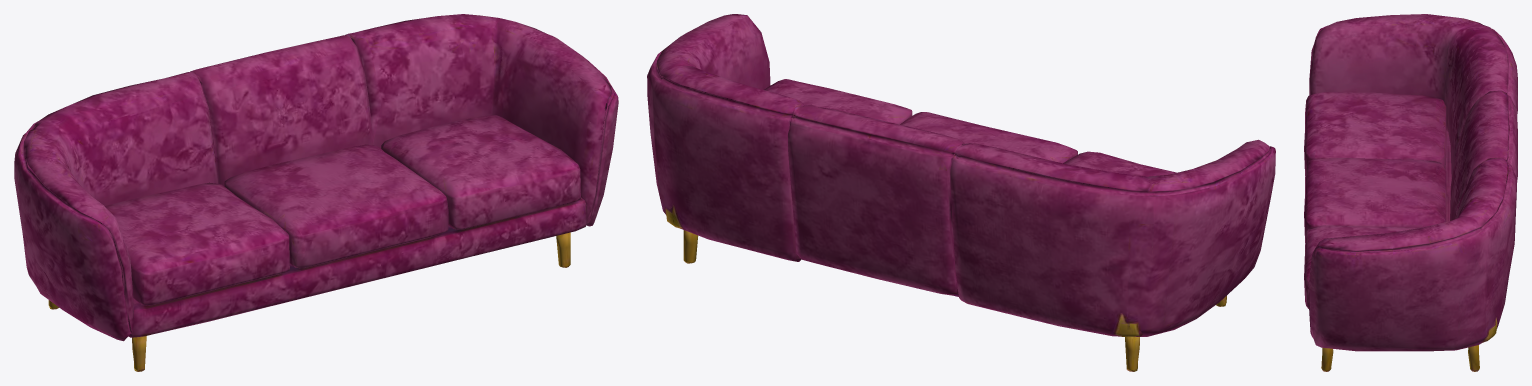
Rendered from lounge_sofa.glb.
3 views of the same model, side by side, from view 1: azimuth 30°, elevation 25°; view 2: azimuth 150°, elevation 25°; view 3: azimuth 270°, elevation 25° (orthographic). The views are drawn at different scales.
Parts seen in each view (by area): view 1: TesanaFacingY180; view 2: TesanaFacingY180; view 3: TesanaFacingY180.
Part boxes in pixels (<box>): TesanaFacingY180: <box>14,14,618,371</box>; TesanaFacingY180: <box>647,14,1275,371</box>; TesanaFacingY180: <box>1304,14,1517,371</box>.
Bounding box in the file's own units: 2.57 × 0.85 × 0.9908.
Materials: 1 (1 with a texture image).
